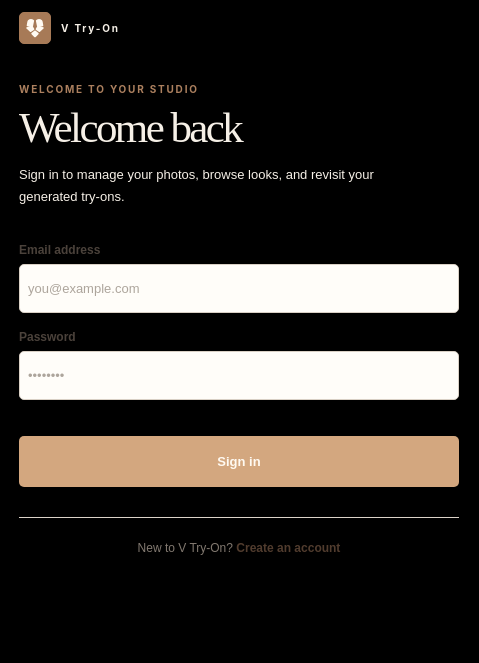
Test case: Login Flow — Phase 4 Tests › maps 401 invalid credentials to accessible alert
Type "user@example.com" into the field labelled "Email address".
click(239, 289); type("user@example.com")  # box [19,264,459,313]
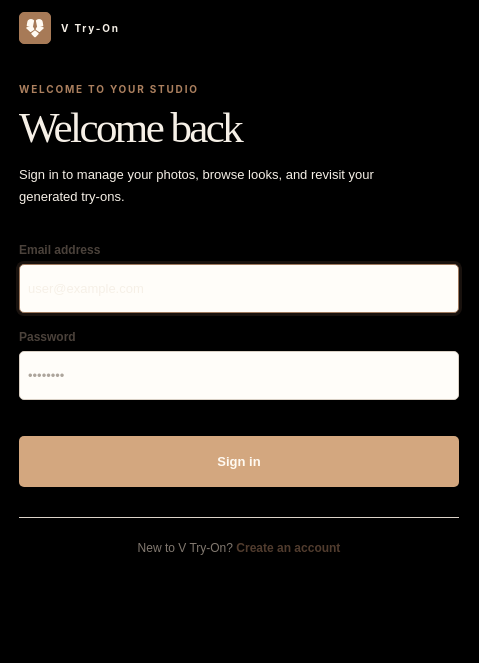
Type "wrongpassword" into the password field labelled "Password".
click(239, 376); type("wrongpassword")  # box [19,351,459,400]
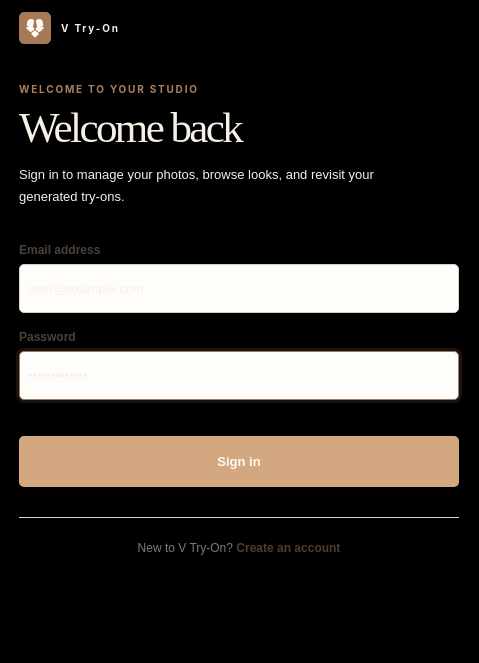
Click the button "Sign in".
click(239, 462)  # box [19,436,459,487]
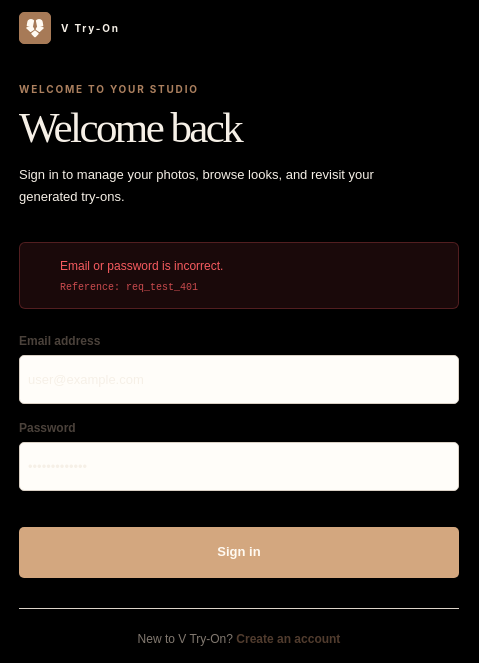
Now the message "Email or password is incorrect. Reference: req_test_401" is shown, box [19,242,459,309]
Now the message shows "Email or password is incorrect", box [60,259,223,273]
Now the message shows "req_test_401", box [126,282,198,293]
